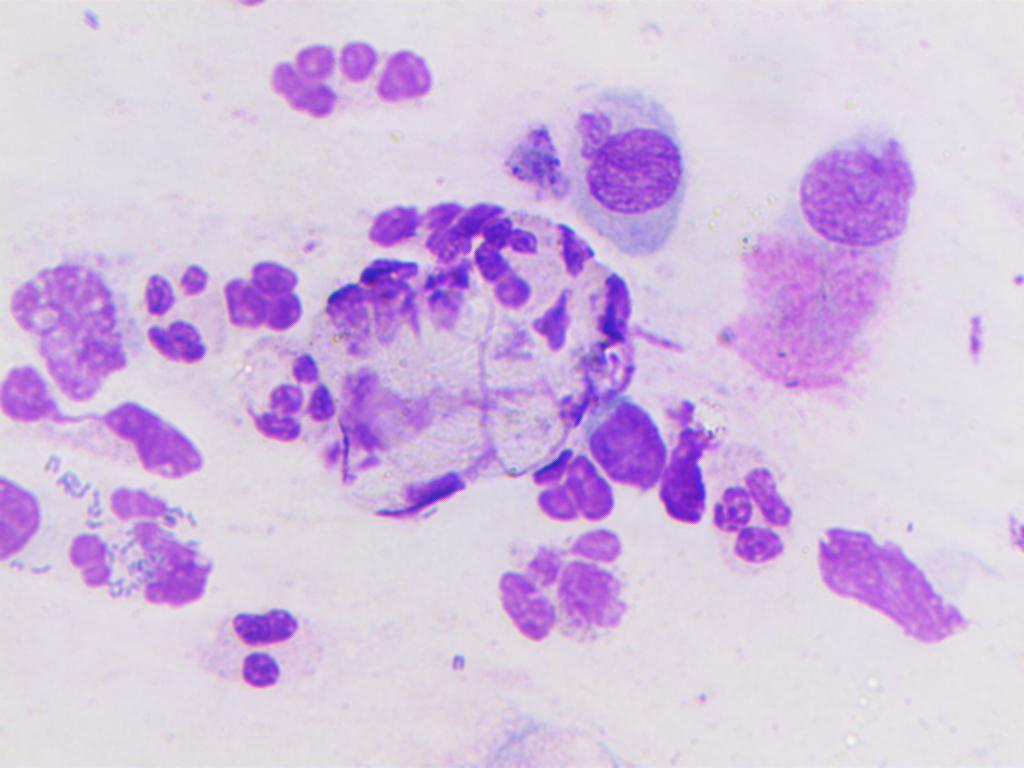artifact: (718, 224, 900, 402), (818, 506, 970, 657), (0, 372, 192, 478), (3, 249, 130, 409), (653, 402, 734, 528), (580, 391, 668, 492)
epithelial: (573, 72, 698, 225), (792, 109, 917, 247)
neutrophil: (326, 372, 500, 533), (475, 206, 642, 370), (52, 488, 210, 622), (317, 254, 476, 378), (479, 523, 629, 653), (255, 37, 458, 125), (182, 601, 329, 689), (706, 447, 799, 586), (227, 341, 333, 453), (353, 194, 500, 264), (142, 259, 227, 372), (223, 250, 316, 333), (529, 453, 616, 523)
